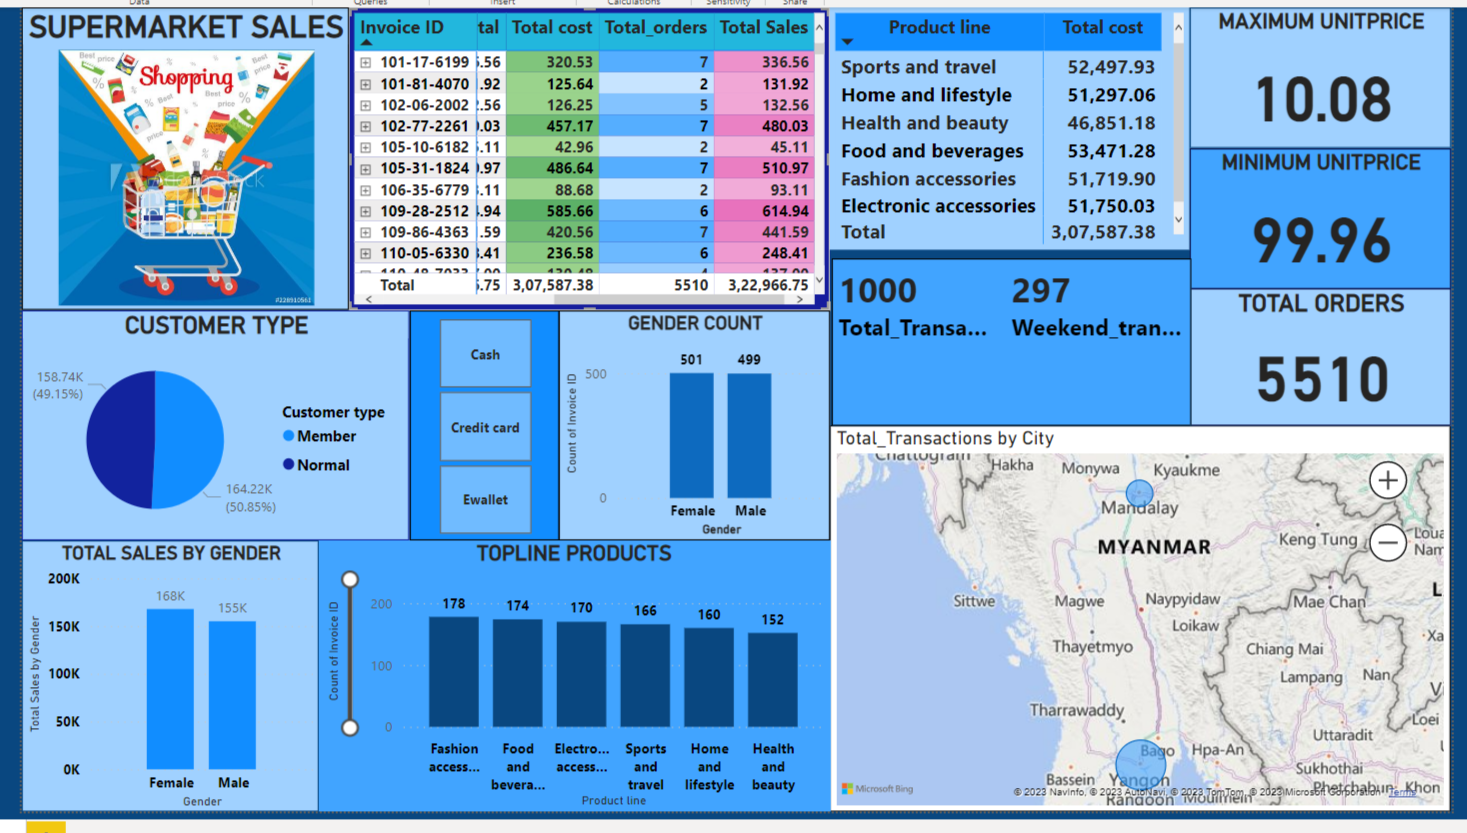

Layout of this report page (visuals, bound fields, positions):
{"tool":"powerbi","page":{"name":"Supermarket sales ","canvas":[1280,720],"ordinal":0},"visuals":[{"type":"pivotTable","fields":{"Rows":["Super_market_sales.Invoice ID","Super_market_sales.Product line","Super_market_sales.City","Super_market_sales.Branch"],"Values":["Sum(Super_market_sales.Unit price)","Sum(Super_market_sales.Total)","Super_market_sales.Total cost","Super_market_sales.Total_orders","Super_market_sales.Total Sales"]},"box":[292.7,0,431.2,271.2],"z":0},{"type":"card","title":"MAXIMUM UNITPRICE","fields":{"Values":["Min(Super_market_sales.Unit price)"]},"box":[1045.9,0,234.1,125.9],"z":1000},{"type":"card","title":"MINIMUM UNITPRICE","fields":{"Values":["Max(Super_market_sales.Unit price)"]},"box":[1045.9,125.9,234.1,125.9],"z":2000},{"type":"pivotTable","fields":{"Values":["Super_market_sales.Total sales"],"Rows":["Super_market_sales.Product line"]},"box":[723.9,0,322,216.6],"z":3000},{"type":"map","fields":{"Category":["Super_market_sales.City"],"Size":["Super_market_sales.Total_Transactions"]},"box":[723.6,374.3,556.1,345.7],"z":4000},{"type":"card","title":"TOTAL ORDERS","fields":{"Values":["Super_market_sales.Measure"]},"box":[1045.9,251.7,234.1,122.9],"z":5000},{"type":"pieChart","title":"CUSTOMER TYPE","fields":{"Category":["Super_market_sales.Customer type"],"Y":["Super_market_sales.Total Sales by Customer Type"]},"box":[0,271.2,347.3,205.9],"z":6000},{"type":"columnChart","title":"TOTAL SALES BY GENDER","fields":{"Category":["Super_market_sales.Gender"],"Y":["Super_market_sales.Total Sales by Gender"]},"box":[0,477.1,266.3,242.9],"z":7000},{"type":"barChart","title":"TOPLINE PRODUCTS","fields":{"Category":["Super_market_sales.Product line"],"Y":["CountNonNull(Super_market_sales.Invoice ID)"]},"box":[266.3,477.1,457.6,242.9],"z":8000},{"type":"image","title":"SUPERMARKET SALES","box":[0,0,293,271.2],"z":9000},{"type":"multiRowCard","fields":{"Values":["Super_market_sales.Total_Transactions","Super_market_sales.Weekend_transactions"]},"box":[725,224.4,322,150.2],"z":10000},{"type":"slicer","fields":{"Values":["Super_market_sales.Payment"]},"box":[347.3,271.2,133.7,205.9],"z":11000},{"type":"columnChart","title":"GENDER COUNT","fields":{"Category":["Super_market_sales.Gender"],"Y":["CountNonNull(Super_market_sales.Invoice ID)"]},"box":[481,271,243,206],"z":12000}]}

Visuals, with their boxes in screenshot pixels (x1, y1, x2, y2):
pivotTable - Super_market_sales.Invoice ID x Super_market_sales.Product line: (left=338, top=0, right=826, bottom=307)
"MAXIMUM UNITPRICE" card: (left=1190, top=0, right=1454, bottom=142)
"MINIMUM UNITPRICE" card: (left=1190, top=142, right=1454, bottom=285)
pivotTable - Super_market_sales.Total sales x Super_market_sales.Product line: (left=826, top=0, right=1190, bottom=245)
map - Super_market_sales.City x Super_market_sales.Total_Transactions: (left=825, top=423, right=1454, bottom=814)
"TOTAL ORDERS" card: (left=1190, top=284, right=1454, bottom=423)
"CUSTOMER TYPE" pieChart: (left=8, top=307, right=400, bottom=539)
"TOTAL SALES BY GENDER" columnChart: (left=8, top=539, right=309, bottom=814)
"TOPLINE PRODUCTS" barChart: (left=309, top=539, right=826, bottom=814)
"SUPERMARKET SALES" image: (left=8, top=0, right=339, bottom=307)
multiRowCard - Super_market_sales.Total_Transactions x Super_market_sales.Weekend_transactions: (left=827, top=254, right=1191, bottom=423)
slicer - Super_market_sales.Payment: (left=400, top=307, right=551, bottom=539)
"GENDER COUNT" columnChart: (left=551, top=306, right=826, bottom=539)
